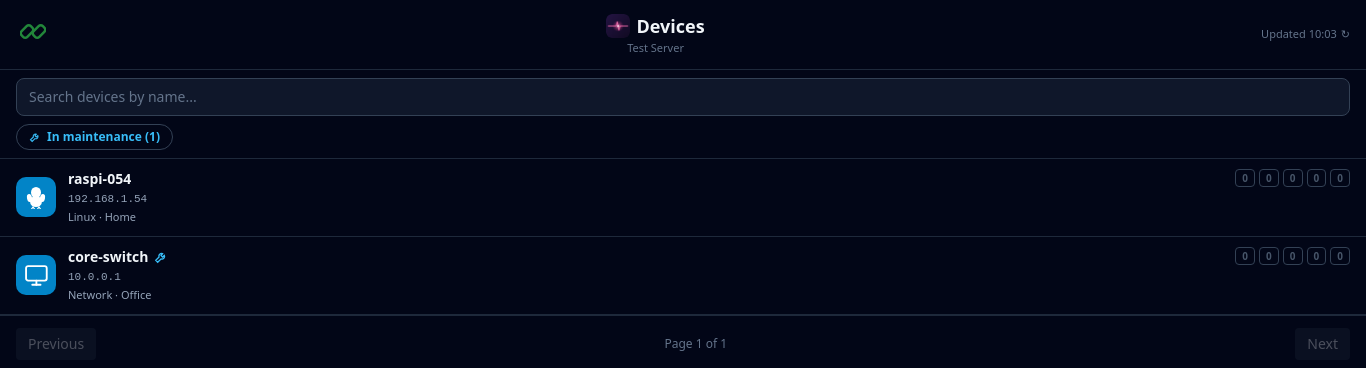
Test: DeviceListScreen maintenance › shows the filter chip with the on-page count and filters on click
Click the button "In maintenance (1)".
click(94, 136)  # box [16,124,173,150]
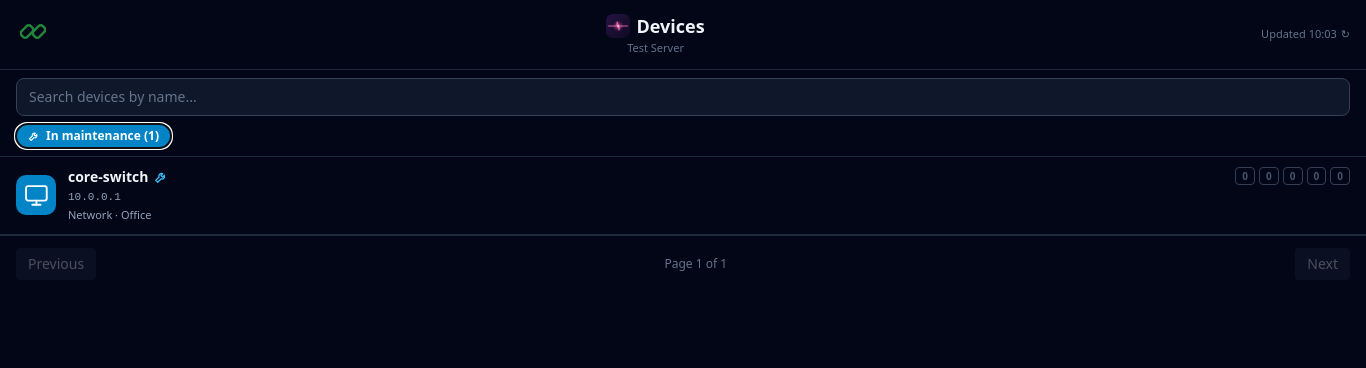
Expected: the text "core-switch" is shown, [68,166,148,186]
Result: the link "raspi-054" is gone
Click the button "In maintenance (1)".
click(94, 136)  # box [16,124,171,148]
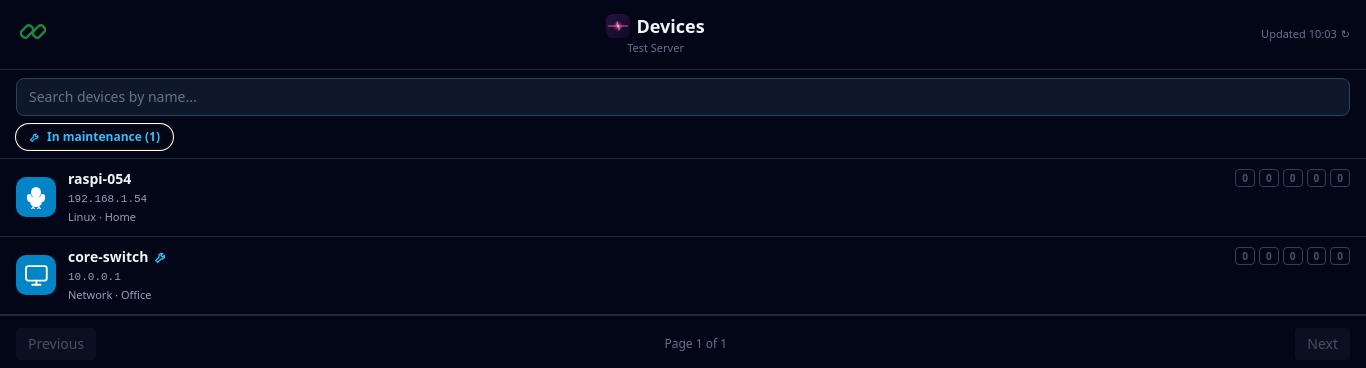
Result: the text "raspi-054" is shown at [68,168,131,188]
